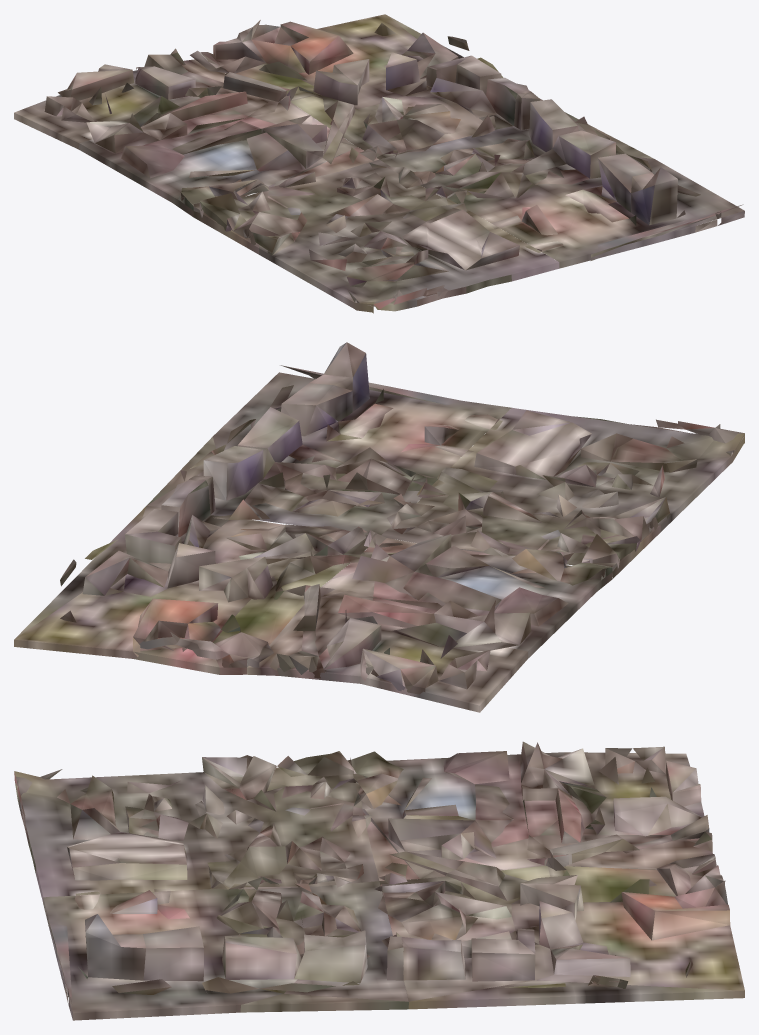
The picture shows the model from 3 angles, top to bottom: view 1: azimuth 30°, elevation 25°; view 2: azimuth 150°, elevation 25°; view 3: azimuth 270°, elevation 25°; orthographic projection. The views are drawn at different scales.
Parts seen in each view (by area): view 1: Mesh_0; view 2: Mesh_0; view 3: Mesh_0.
Part boxes in pixels (x1,y1,x2,y2): Mesh_0: (14, 14, 744, 313); Mesh_0: (14, 342, 744, 712); Mesh_0: (14, 741, 744, 1020).
Size of the model in its own units: 532 by 76.52 by 659.
Materials: 1 (1 with a texture image).
